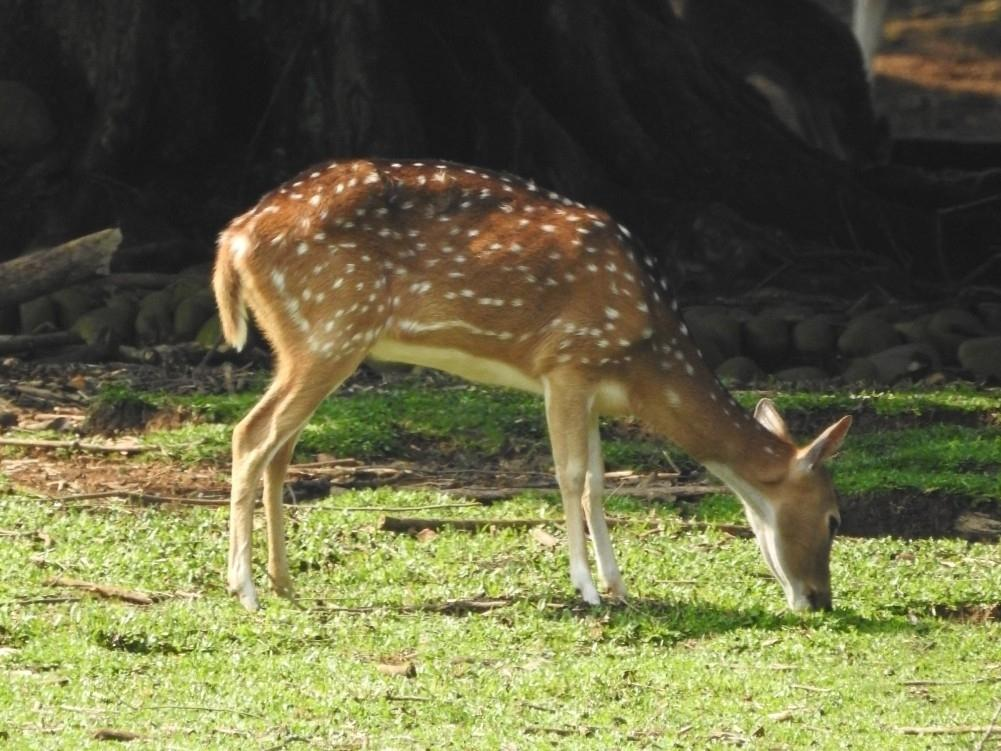Deer: (211, 159, 850, 609)
